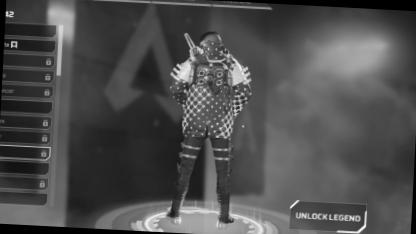Target: (168, 30, 257, 192)
